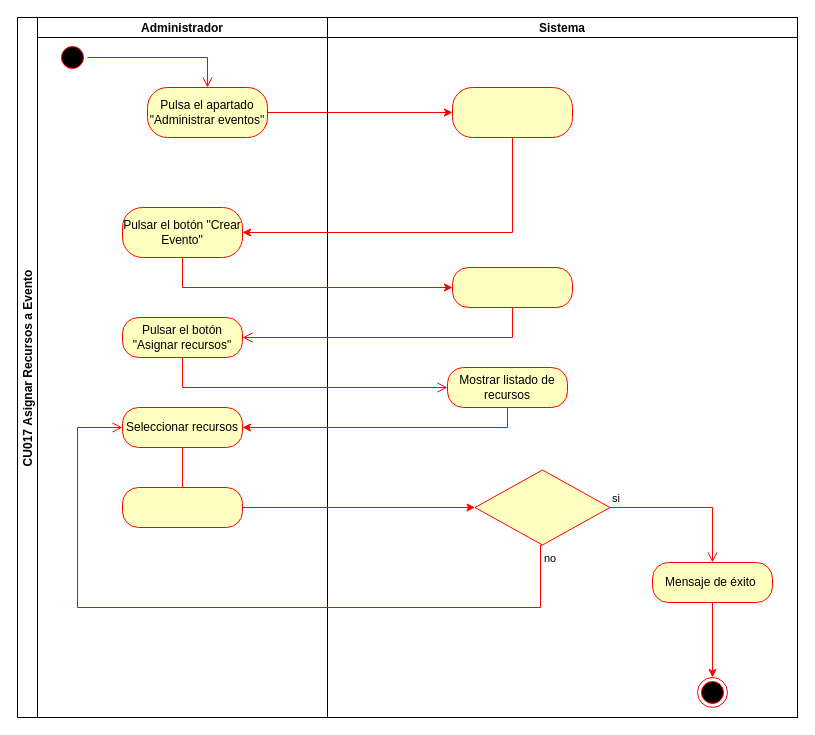
Image size: 815x735. Some labels were removed from this diagram. The shapes that lost their labels are listed below. From the top down, each one's centre as x and y in pixels, then its label:
[512,112]: Mostrar apartado
[512,287]: Mostrar formulario para crear un evento
[182,507]: Pulsar el botón "Registrar asignación"
[542,507]: ¿Recursos asignados correctamente?
